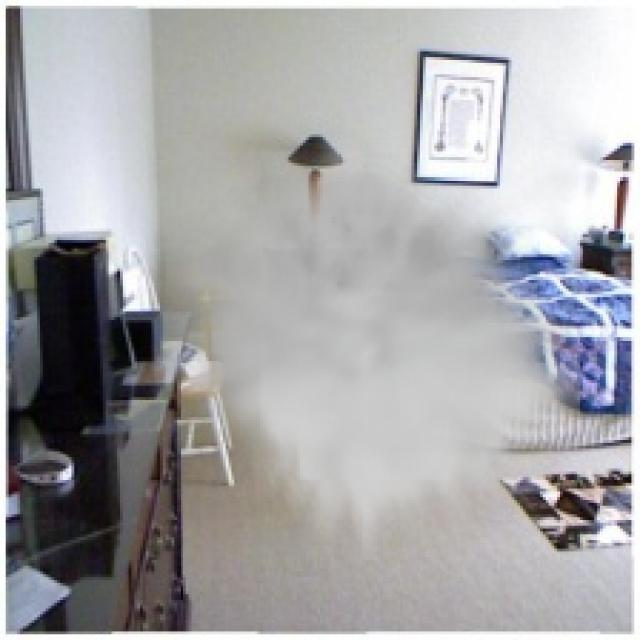Smoke: (165, 137, 580, 560)
